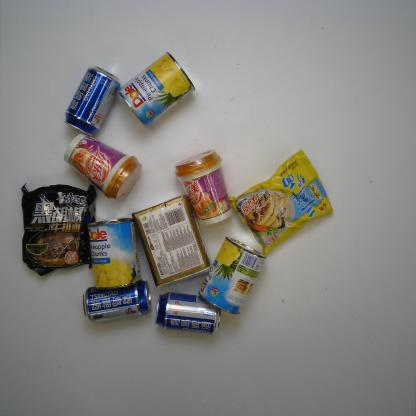Alcohol: (63, 63, 122, 137), (81, 278, 152, 326), (153, 290, 222, 336)
Canned Food: (115, 48, 198, 128), (196, 234, 268, 316), (86, 216, 146, 291)
Instant Drink: (60, 132, 142, 204), (172, 147, 235, 227)
Instant Noodles: (229, 146, 335, 259), (19, 180, 100, 276)
Tissue: (130, 194, 214, 288)
